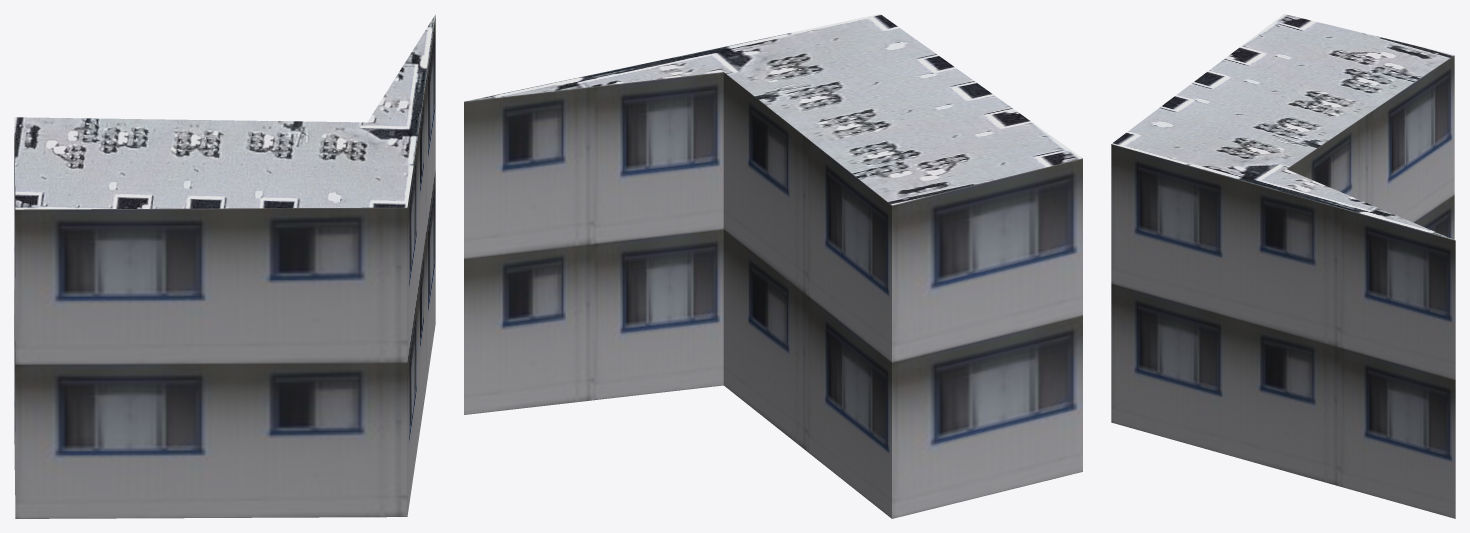
File: ResTex__3827.fbx
3 renders of one model, left to right at view 1: azimuth 30°, elevation 25°; view 2: azimuth 150°, elevation 25°; view 3: azimuth 270°, elevation 25°, orthographic. The views are drawn at different scales.
Parts seen in each view (by area): view 1: CityEngineMaterial_9_m, CityEngineMaterial_4_m; view 2: CityEngineMaterial_9_m, CityEngineMaterial_4_m; view 3: CityEngineMaterial_9_m, CityEngineMaterial_4_m.
Part boxes in pixels (bbox=[...]): CityEngineMaterial_9_m: bbox=[14, 16, 435, 518]; CityEngineMaterial_4_m: bbox=[14, 14, 435, 209]; CityEngineMaterial_9_m: bbox=[464, 72, 1082, 518]; CityEngineMaterial_4_m: bbox=[466, 14, 1082, 205]; CityEngineMaterial_9_m: bbox=[1111, 55, 1455, 518]; CityEngineMaterial_4_m: bbox=[1112, 14, 1454, 239].
Bounding box in the file's own units: 10.46 × 6 × 6.72.
2 materials, 2 textured.
